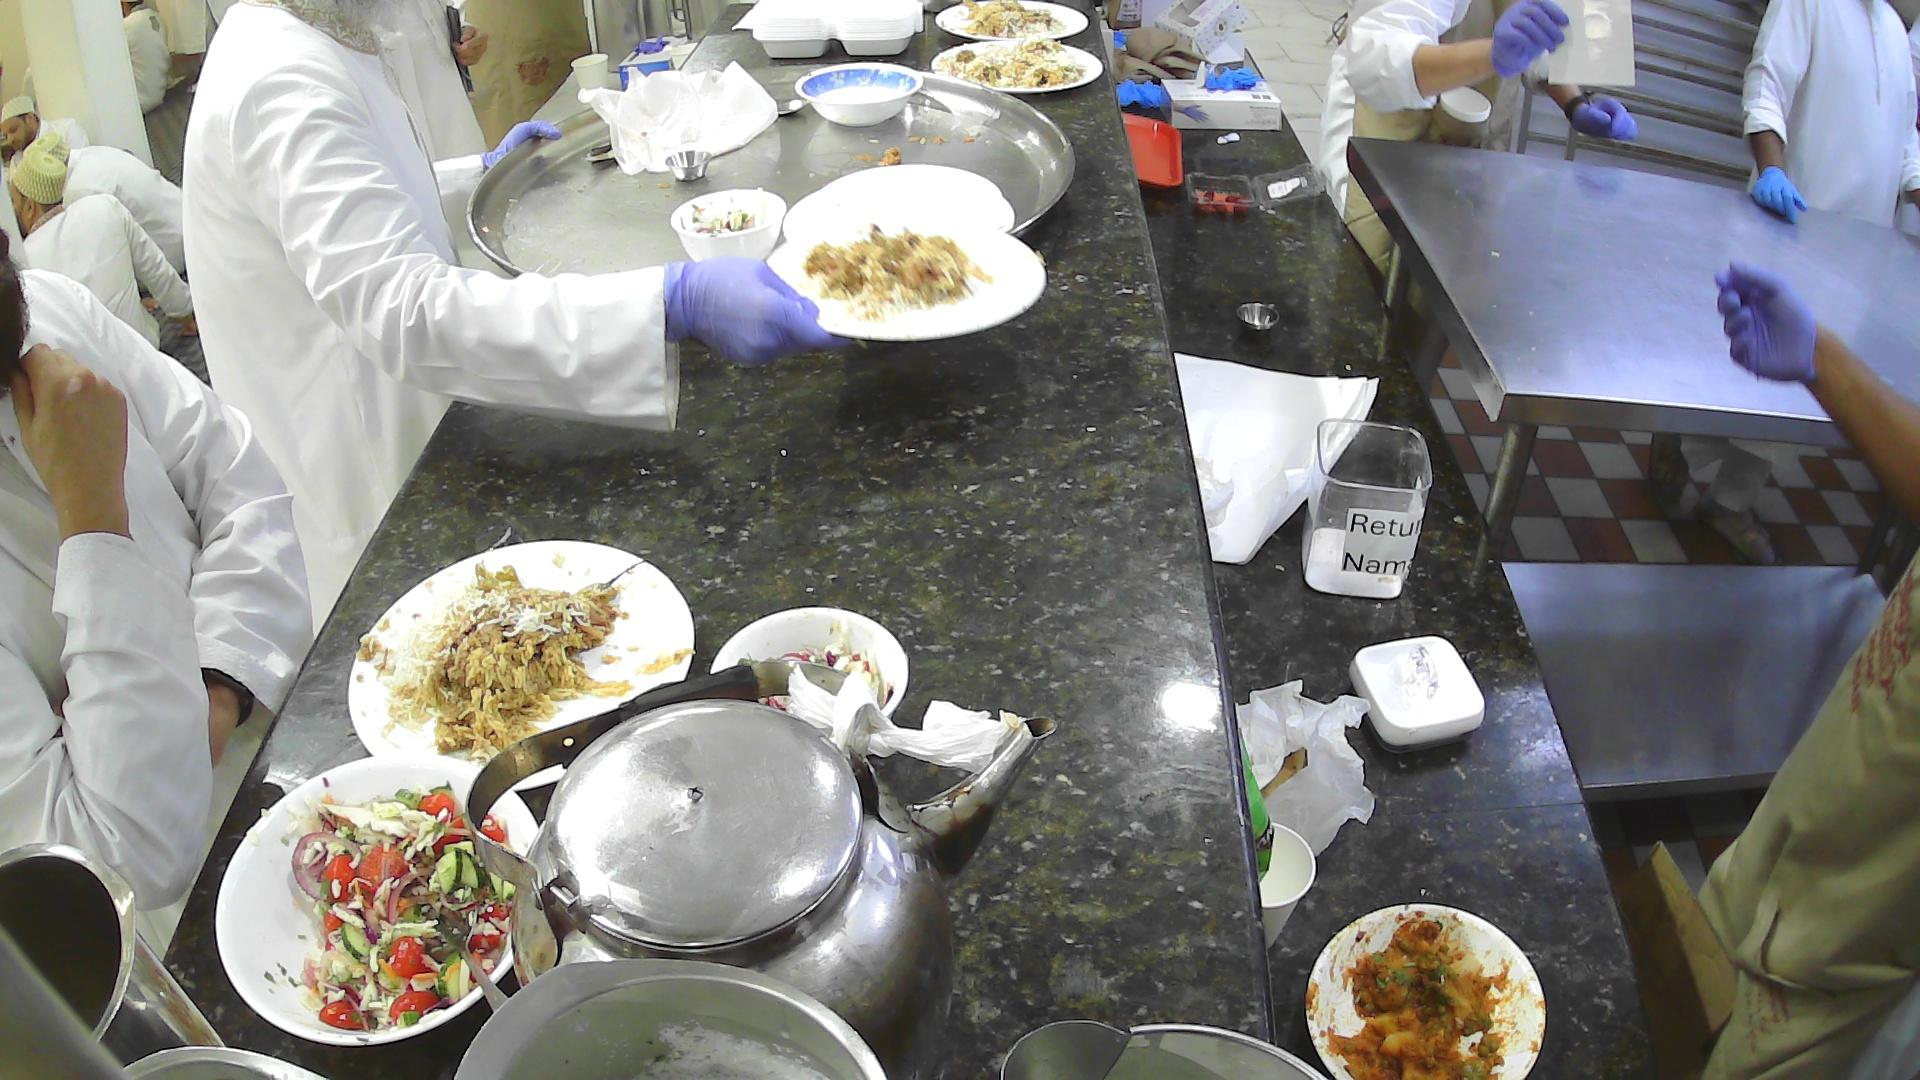thaal: (463, 62, 1079, 280)
